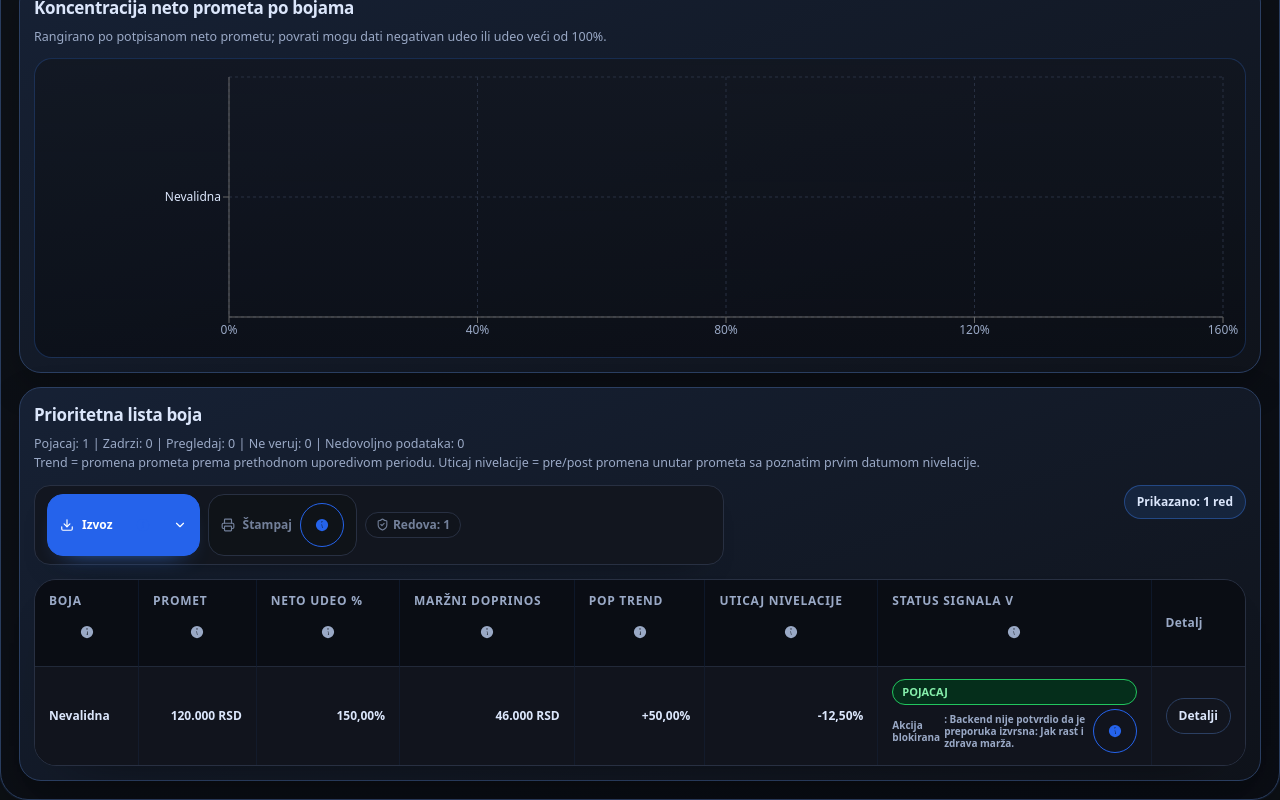
Test case: ColorSalesStatsPage premium controls › keeps signed share outside 0-100 while coverage remains bounded
(page scrolled)
Expected: the row that starts with "Nevalidna" is shown, x1=35 y1=666 x2=1245 y2=765
Expected: the row that starts with "Nevalidna" shows "150,00%", x1=336 y1=707 x2=385 y2=724
Click the button "Detalji" at coordinates (1198, 716), box x1=1166 y1=698 x2=1231 y2=734
(page scrolled)
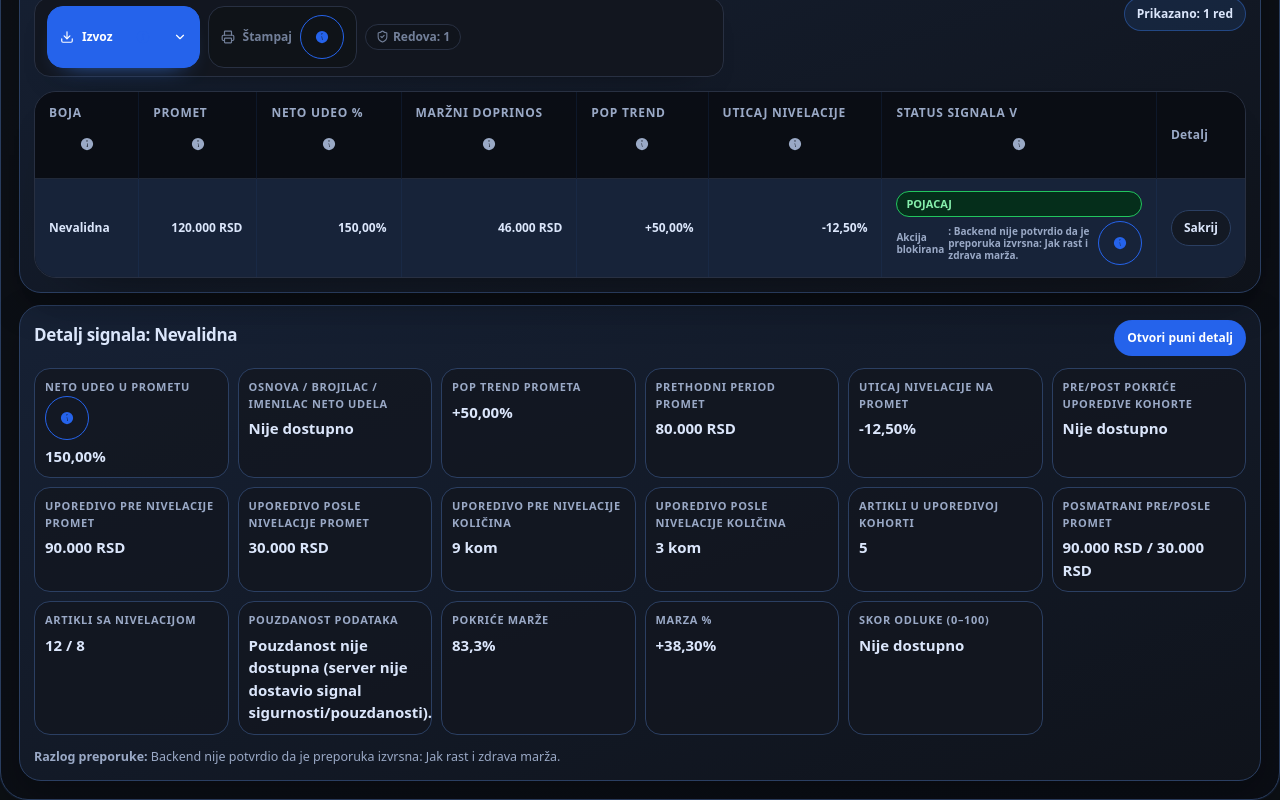
Expected: the element "Detalj signala: Nevalidna" is shown, x1=19 y1=305 x2=1261 y2=781
